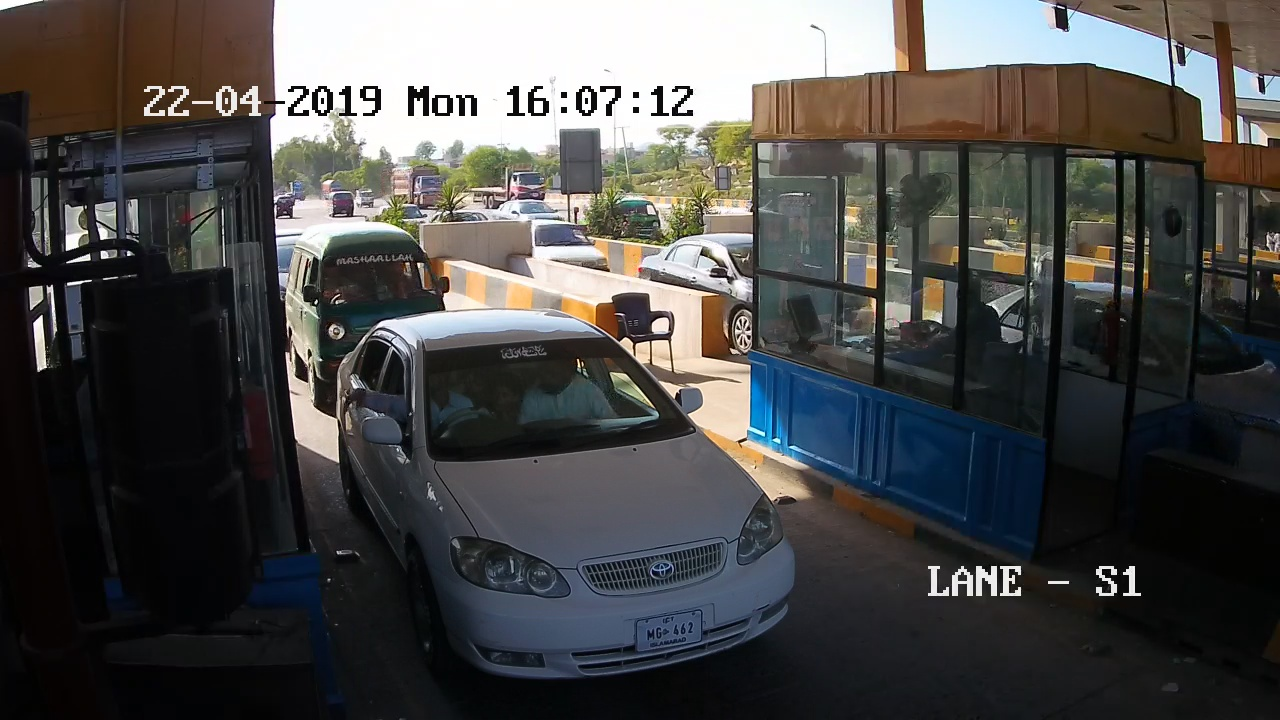Number Plate (Car): (633, 610, 702, 648)
